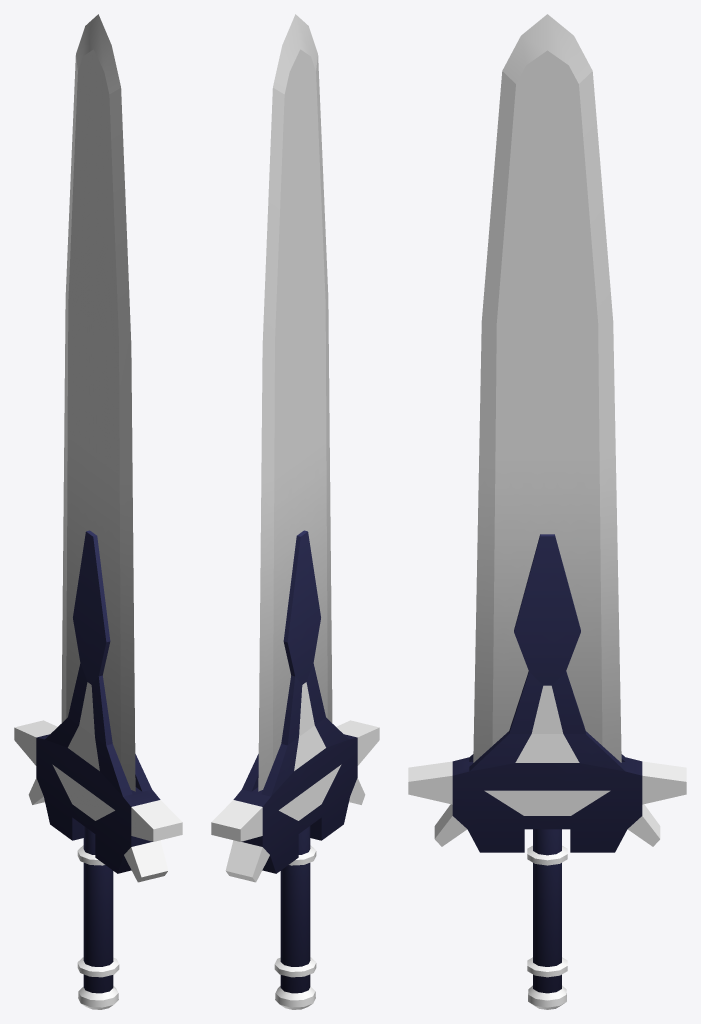
The model's file is Weapon_claymore_sword.fbx.
The picture shows the model from 3 angles, left to right: view 1: azimuth 30°, elevation 25°; view 2: azimuth 150°, elevation 25°; view 3: azimuth 270°, elevation 25°; orthographic projection.
Visible parts, largest first — view 1: W_LB_3; view 2: W_LB_3; view 3: W_LB_3.
Boxes of the visible parts, x1=… form: W_LB_3: x1=14, y1=14, x2=182, y2=1009; W_LB_3: x1=211, y1=14, x2=379, y2=1009; W_LB_3: x1=408, y1=14, x2=686, y2=1009.
Bounding box in the file's own units: 3.98 × 103 × 26.32.
